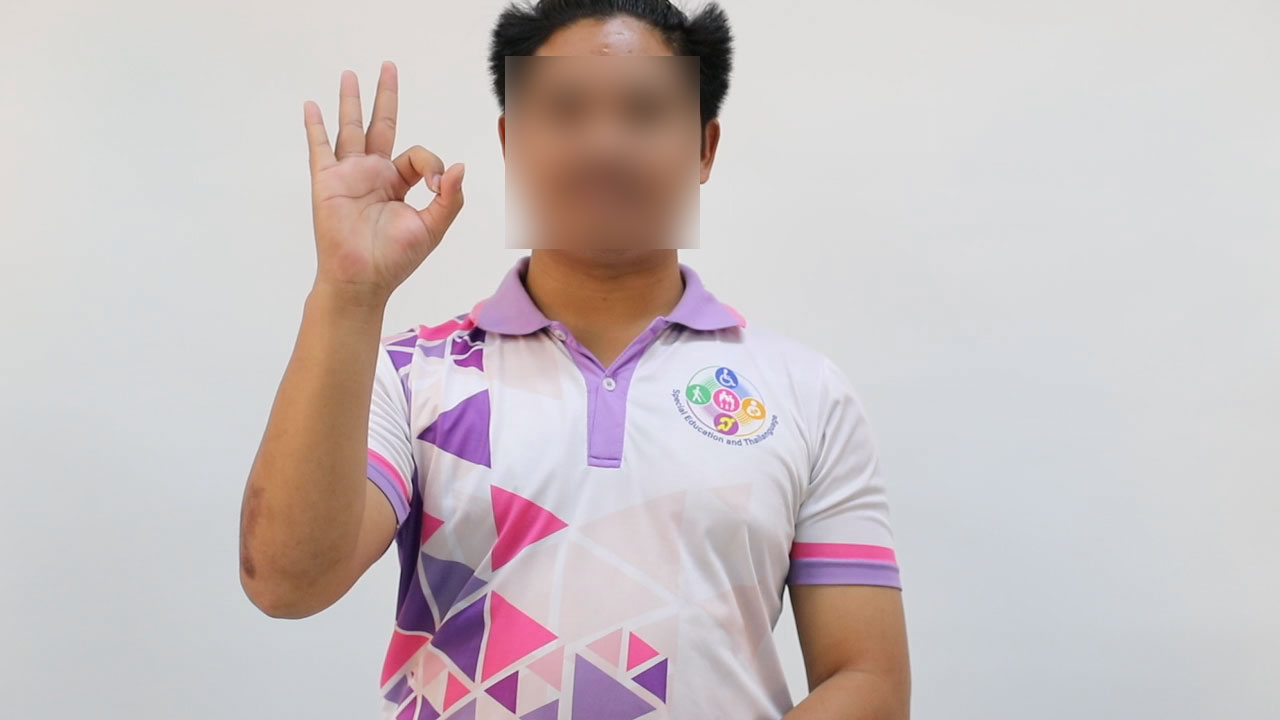for: (295, 48, 470, 312)
